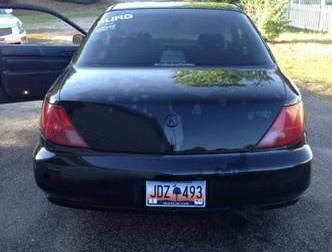acura: (1, 1, 312, 222)
